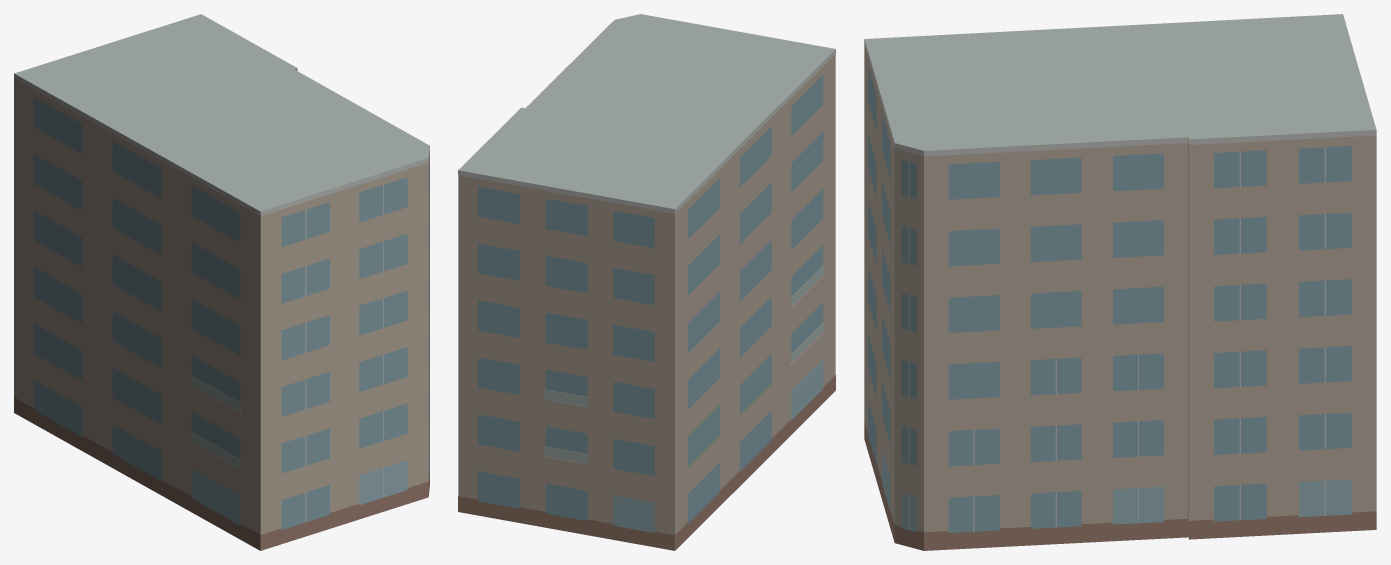
The model's file is survey-upis-32968074.glb.
3 renders of one model, left to right at view 1: azimuth 30°, elevation 25°; view 2: azimuth 150°, elevation 25°; view 3: azimuth 270°, elevation 25°, orthographic. The views are drawn at different scales.
Parts seen in each view (by area): view 1: survey-upis-32968074.tmp; view 2: survey-upis-32968074.tmp; view 3: survey-upis-32968074.tmp.
Boxes of the visible parts, x1,y1,x2,y2 form: survey-upis-32968074.tmp: (14,14,429,550); survey-upis-32968074.tmp: (458,14,835,550); survey-upis-32968074.tmp: (864,14,1376,550).
Size of the model in its own units: 12.63 by 17.2 by 19.97.
